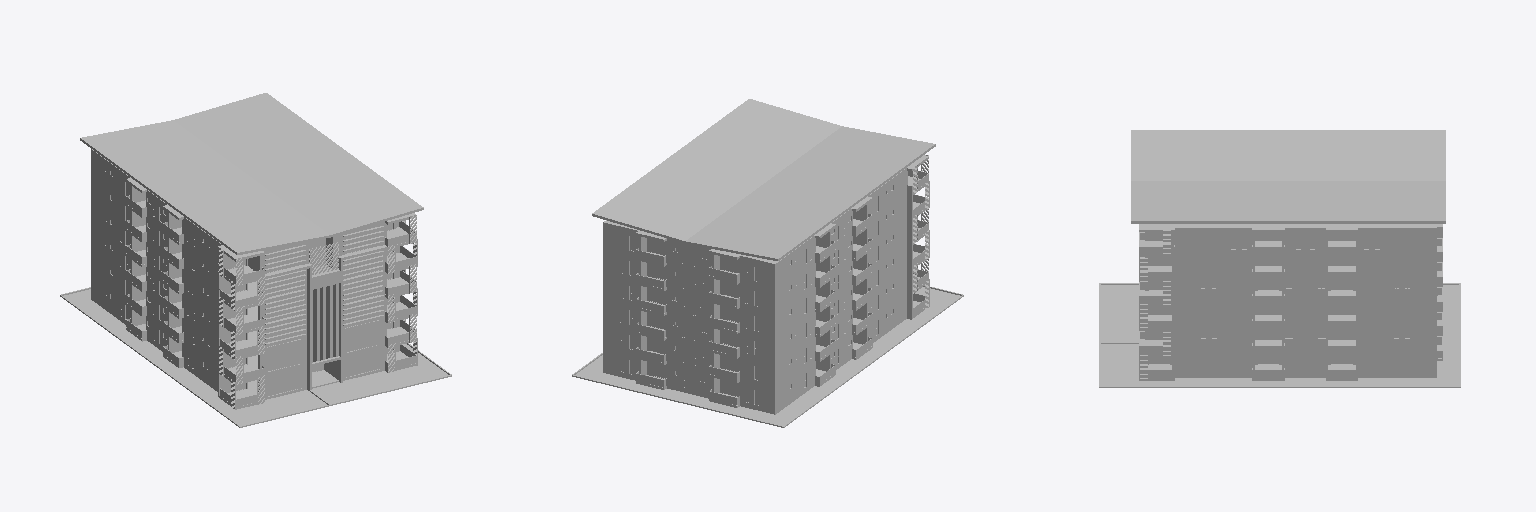
File: building5.obj
3 renders of one model, left to right at view 1: azimuth 30°, elevation 25°; view 2: azimuth 150°, elevation 25°; view 3: azimuth 270°, elevation 25°, orthographic.
Visible parts, largest first — view 1: ROOF, WALL, BALCONY, WINDOW, LOUVER, LAND, DOOR, FLOOR; view 2: WALL, ROOF, BALCONY, LAND, WINDOW, DOOR, LOUVER; view 3: ROOF, WALL, BALCONY, LAND, WINDOW, DOOR, LOUVER.
Boxes of the visible parts, x1,y1,x2,y2 form: ROOF: [80, 93, 423, 254]; WALL: [91, 149, 395, 404]; BALCONY: [126, 178, 416, 409]; WINDOW: [105, 167, 379, 396]; LOUVER: [219, 215, 417, 409]; LAND: [60, 287, 451, 427]; DOOR: [226, 223, 393, 392]; FLOOR: [248, 281, 257, 394]; WALL: [603, 167, 907, 414]; ROOF: [592, 99, 935, 262]; BALCONY: [636, 155, 928, 407]; LAND: [572, 286, 963, 427]; WINDOW: [620, 185, 893, 405]; DOOR: [649, 239, 737, 396]; LOUVER: [913, 155, 929, 309]; ROOF: [1131, 130, 1445, 226]; WALL: [1101, 224, 1436, 377]; BALCONY: [1139, 224, 1442, 380]; LAND: [1099, 283, 1460, 387]; WINDOW: [1200, 235, 1409, 372]; DOOR: [1149, 232, 1352, 364]; LOUVER: [1139, 230, 1171, 380].
Bounding box in the file's own units: 1080 × 780 × 1591.